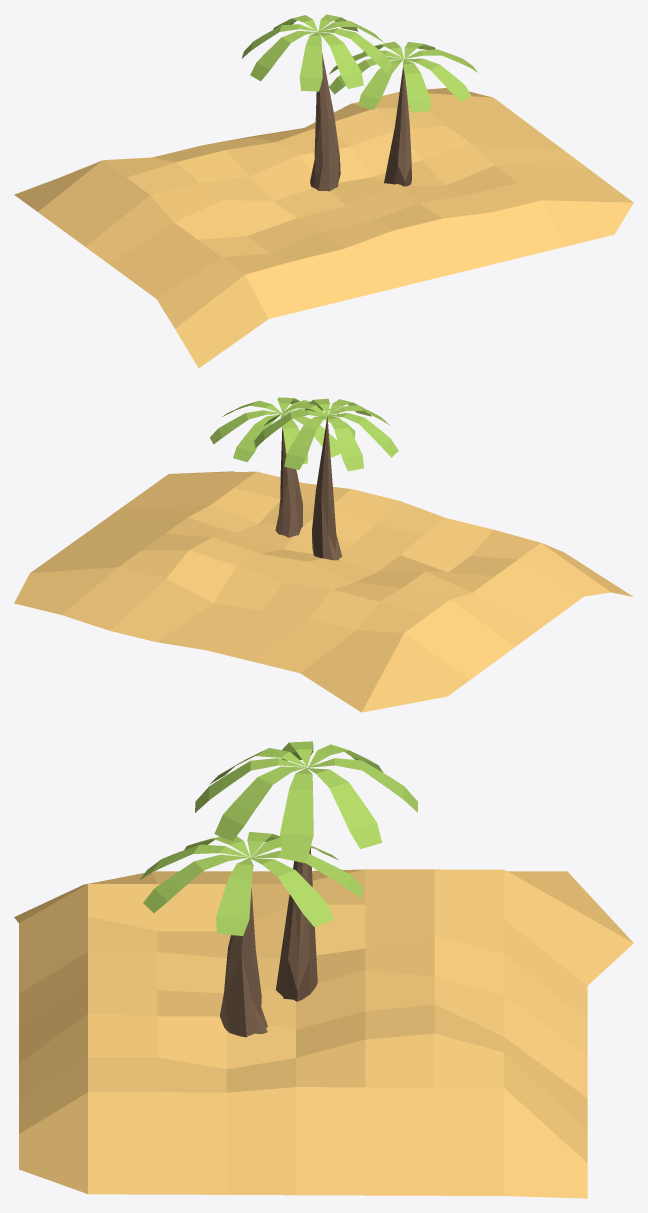
Rendered from island.glb.
3 views of the same model, one above another, from view 1: azimuth 30°, elevation 25°; view 2: azimuth 150°, elevation 25°; view 3: azimuth 270°, elevation 25° (orthographic). The views are drawn at different scales.
Parts seen in each view (by area): view 1: Plane, Cone, Cone.001, Plane.006, Plane.005, Plane.014, Plane.007, Plane.013, Plane.015, Plane.004; view 2: Plane, Cone, Cone.001, Plane.008, Plane.001, Plane.010, Plane.007, Plane.009, Plane.002; view 3: Plane, Cone.001, Cone, Plane.003, Plane.002, Plane.016, Plane.004, Plane.009, Plane.015, Plane.010, Plane.001, Plane.005 (+1 smaller).
Boxes of the visible parts, x1,y1,x2,y2 form: Plane: [14, 88, 633, 368]; Cone: [310, 52, 340, 191]; Cone.001: [384, 67, 411, 186]; Plane.006: [299, 32, 322, 91]; Plane.005: [318, 32, 363, 88]; Plane.014: [402, 59, 430, 112]; Plane.007: [250, 31, 315, 81]; Plane.013: [358, 59, 403, 109]; Plane.015: [404, 58, 471, 101]; Plane.004: [318, 28, 391, 72]; Plane: [14, 471, 633, 712]; Cone: [312, 417, 342, 560]; Cone.001: [275, 427, 302, 537]; Plane.008: [327, 415, 363, 471]; Plane.001: [284, 415, 327, 469]; Plane.010: [233, 414, 281, 462]; Plane.007: [329, 413, 398, 457]; Plane.009: [210, 410, 280, 444]; Plane.002: [254, 410, 326, 447]; Plane: [14, 869, 633, 1198]; Cone.001: [220, 888, 267, 1037]; Cone: [276, 847, 317, 1001]; Plane.003: [280, 768, 313, 854]; Plane.002: [307, 768, 381, 849]; Plane.016: [216, 857, 253, 935]; Plane.004: [214, 766, 306, 840]; Plane.009: [250, 858, 333, 926]; Plane.015: [143, 854, 248, 912]; Plane.010: [252, 850, 363, 898]; Plane.001: [307, 758, 417, 812]; Plane.005: [195, 758, 305, 812].
Size of the model in its own units: 14.07 by 6.2 by 11.18.
